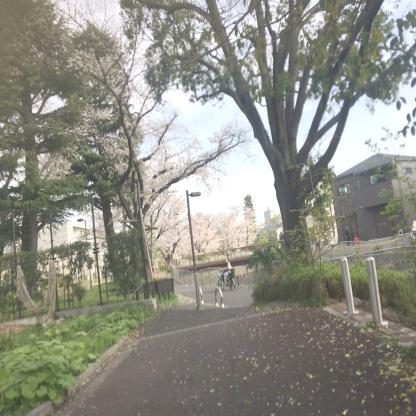Someiyoshino: (25, 0, 256, 221), (144, 204, 262, 263)
